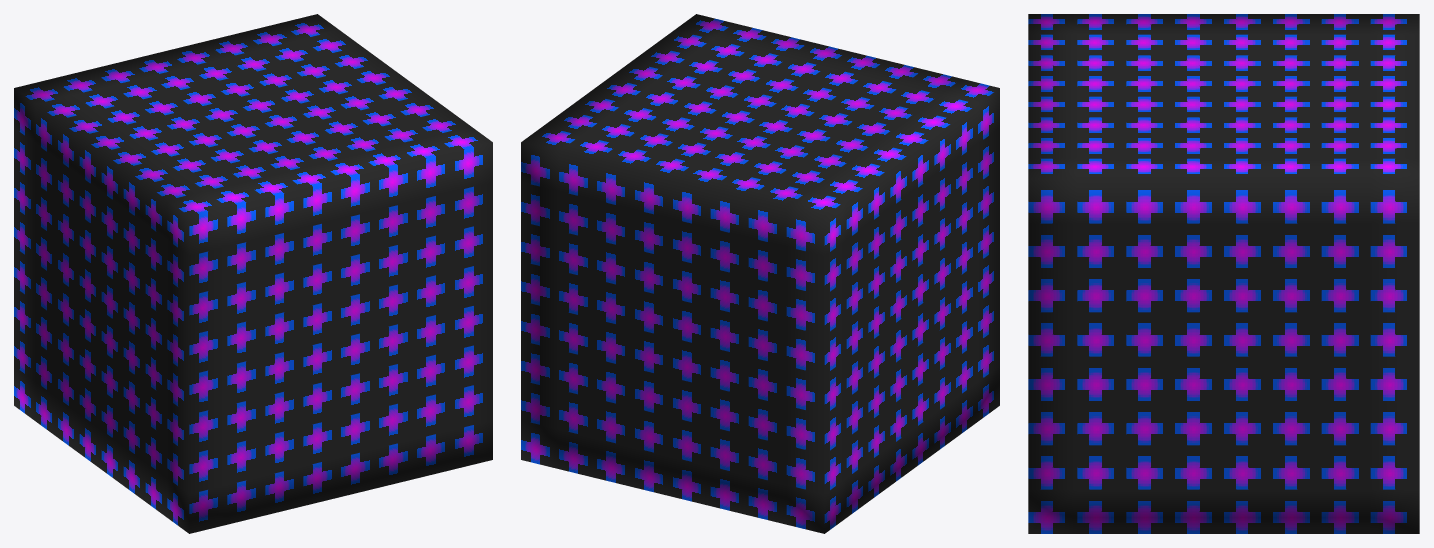
Rendered from SM_Cubeaveraged.glb.
3 views of the same model, side by side, from view 1: azimuth 30°, elevation 25°; view 2: azimuth 150°, elevation 25°; view 3: azimuth 270°, elevation 25° (orthographic). The views are drawn at different scales.
Parts seen in each view (by area): view 1: SM_Cubeaveraged.001; view 2: SM_Cubeaveraged.001; view 3: SM_Cubeaveraged.001.
Part boxes in pixels (x1,y1,x2,y2): SM_Cubeaveraged.001: [14, 14, 492, 533]; SM_Cubeaveraged.001: [521, 14, 999, 533]; SM_Cubeaveraged.001: [1028, 14, 1419, 533].
Bounding box in the file's own units: 200 × 200 × 200.
Materials: 1 (1 with a texture image).
